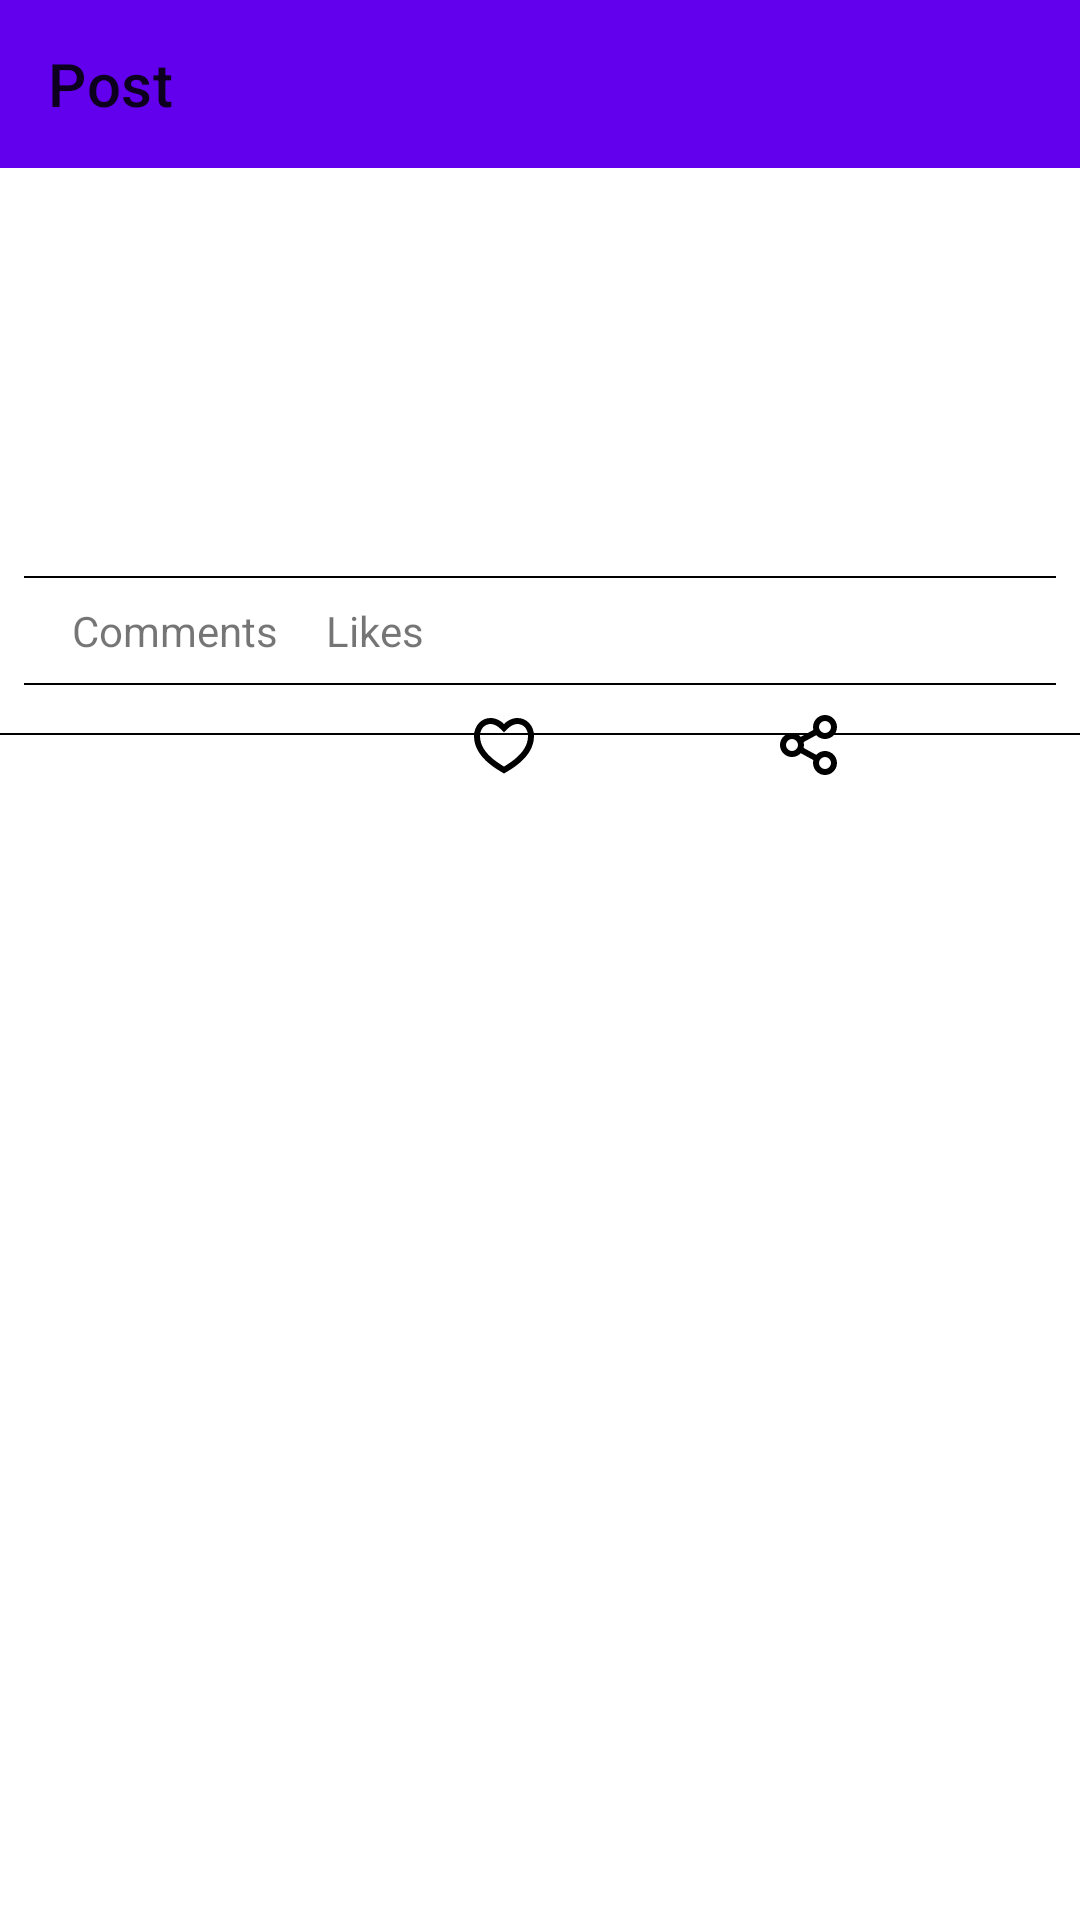

Named icons in this screenshot (1080w x 1920h) and their bounding boxes, {"left": x1, "top": y1, "right": x2, "bottom": y2}:
heart line: {"left": 468, "top": 718, "right": 540, "bottom": 774}
share line: {"left": 774, "top": 715, "right": 846, "bottom": 775}
